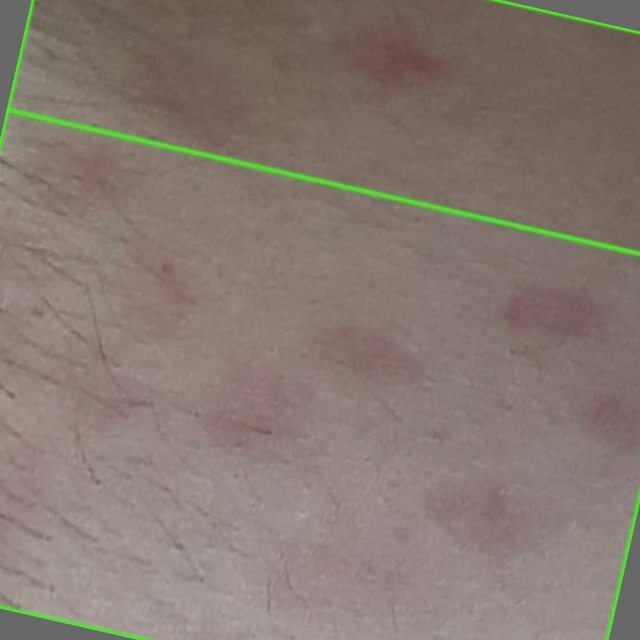Tinea Corporis: (0, 109, 639, 639), (7, 0, 639, 254)
